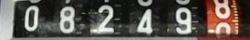digits: (97, 4, 116, 34), (174, 6, 192, 32), (58, 5, 75, 32), (136, 8, 152, 32), (24, 5, 39, 30), (213, 0, 230, 20)
